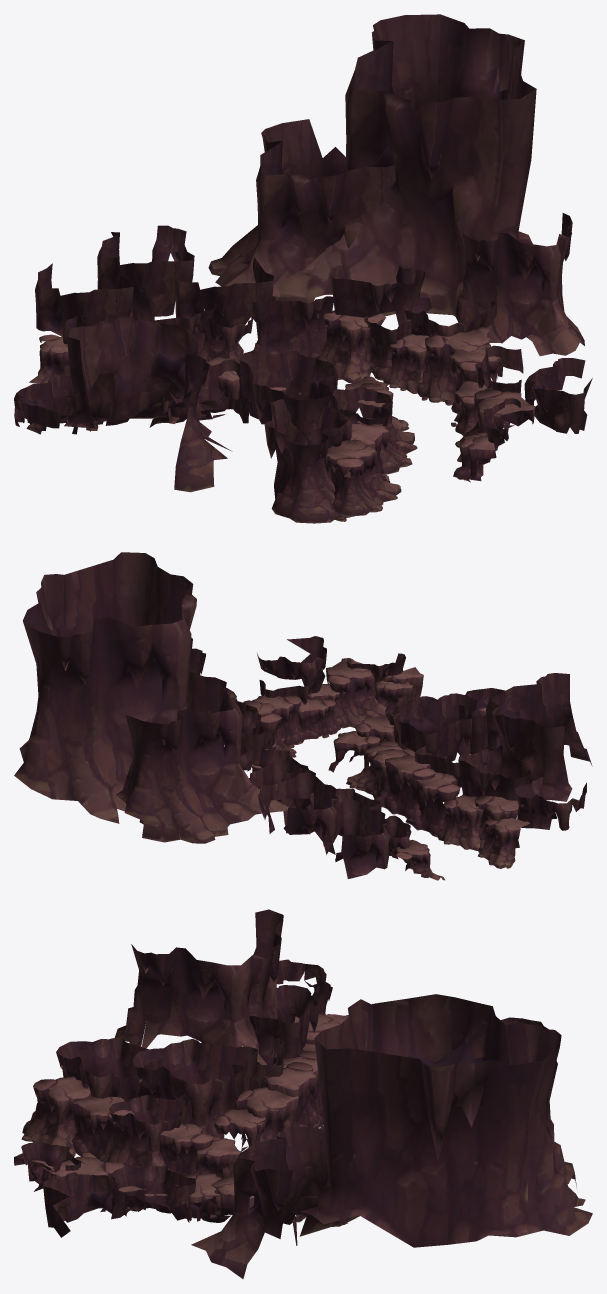
Rendered from area9_shiqiang_02.FBX.
3 renders of one model, top to bottom at view 1: azimuth 30°, elevation 25°; view 2: azimuth 150°, elevation 25°; view 3: azimuth 270°, elevation 25°, orthographic. The views are drawn at different scales.
Parts seen in each view (by area): view 1: area9_shiqiang_02; view 2: area9_shiqiang_02; view 3: area9_shiqiang_02.
Boxes of the visible parts, <box> form: area9_shiqiang_02: <box>14,14,592,523</box>; area9_shiqiang_02: <box>14,552,592,880</box>; area9_shiqiang_02: <box>14,909,592,1278</box>.
Bounding box in the file's own units: 10980 × 4529 × 9485.
